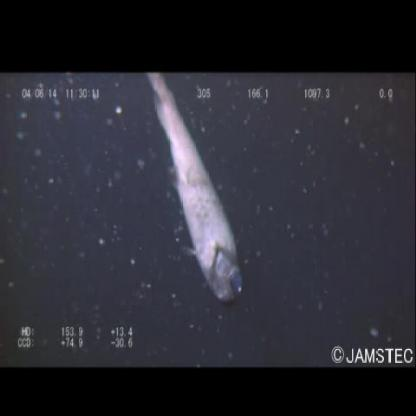Bio: (145, 72, 245, 308)
